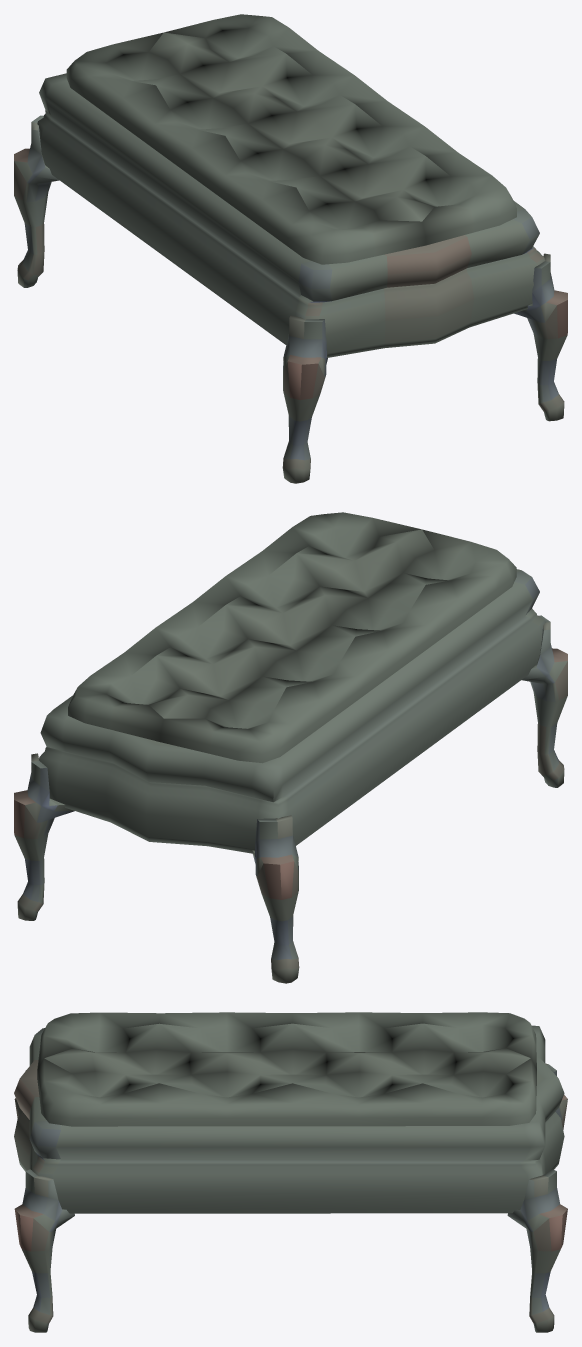
The model's file is DragonBank.fbx.
The picture shows the model from 3 angles, top to bottom: view 1: azimuth 30°, elevation 25°; view 2: azimuth 150°, elevation 25°; view 3: azimuth 270°, elevation 25°; orthographic projection. The views are drawn at different scales.
Parts seen in each view (by area): view 1: DragonBank; view 2: DragonBank; view 3: DragonBank.
Part boxes in pixels (x1=…): DragonBank: x1=14, y1=14, x2=567, y2=483; DragonBank: x1=14, y1=512, x2=567, y2=983; DragonBank: x1=14, y1=1012, x2=567, y2=1332.
Bounding box in the file's own units: 85.89 × 67.67 × 156.
